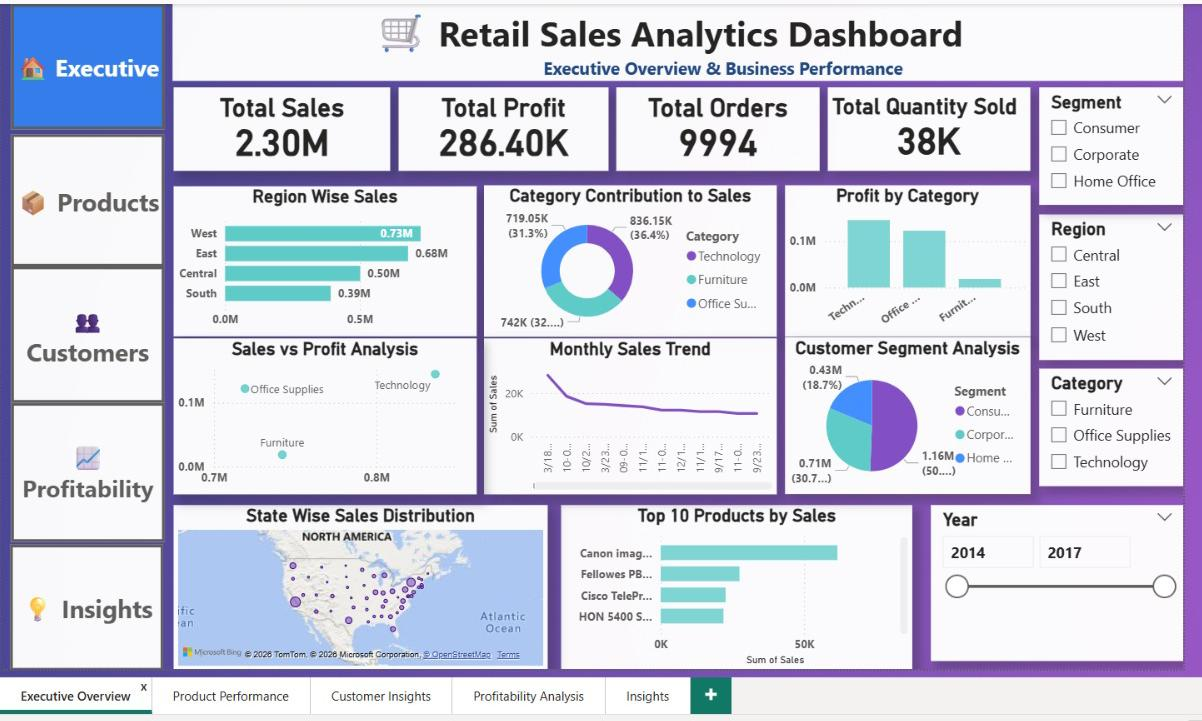

What the dashboard file says about the page in this screenshot:
{"tool":"powerbi","page":{"name":"Executive Overview","canvas":[1280,720],"ordinal":0},"visuals":[{"type":"textbox","box":[186.4,0,1093.6,83.5],"z":0},{"type":"actionButton","box":[9.7,584.3,166,136.3],"z":0,"group":"g1"},{"type":"card","title":"Total Sales","fields":{"Values":["Sum(Sample_ Superstore.Sales)"]},"box":[187.1,90.5,234.8,90.5],"z":1000},{"type":"card","title":"Total Profit","fields":{"Values":["Sum(Sample_ Superstore.Profit)"]},"box":[430.4,90.5,227.4,90.5],"z":2000},{"type":"actionButton","box":[10.7,140.5,166,143.3],"z":2000,"group":"g1"},{"type":"card","title":"Total Orders","fields":{"Values":["CountNonNull(Sample_ Superstore.Order ID)"]},"box":[666.4,90.5,220.1,90.5],"z":3000},{"type":"actionButton","box":[10.7,283.8,166,147.5],"z":3000,"group":"g1"},{"type":"card","title":"Total Quantity Sold","fields":{"Values":["Sum(Sample_ Superstore.Quantity)"]},"box":[895.1,90.5,218.9,90.5],"z":4000},{"type":"clusteredBarChart","title":"Region Wise Sales","fields":{"Category":["Sample_ Superstore.Region"],"Y":["Sum(Sample_ Superstore.Sales)"]},"box":[187.1,196.9,327.7,162.6],"z":5000},{"type":"donutChart","title":"Category Contribution to Sales","fields":{"Category":["Sample_ Superstore.Category"],"Y":["Sum(Sample_ Superstore.Sales)"]},"box":[523.4,195.7,316.7,163.9],"z":6000},{"type":"clusteredBarChart","title":"Top 10 Products by Sales","fields":{"Category":["Sample_ Superstore.Product Name"],"Y":["Sum(Sample_ Superstore.Sales)"]},"box":[606.5,541.7,380.3,178.5],"z":7000},{"type":"group","id":"g1","title":"Group 1","box":[9.7,140.5,167,580.2],"z":8000},{"type":"lineChart","title":"Monthly Sales Trend","fields":{"Category":["Sample_ Superstore.Month"],"Y":["Sum(Sample_ Superstore.Sales)"]},"box":[523.4,362,316.7,168.8],"z":9000},{"type":"clusteredColumnChart","title":"Profit by Category","fields":{"Category":["Sample_ Superstore.Category"],"Y":["Sum(Sample_ Superstore.Profit)"]},"box":[848.6,195.7,265.4,163.9],"z":10000},{"type":"pieChart","title":"Customer Segment Analysis","fields":{"Category":["Sample_ Superstore.Segment"],"Y":["Sum(Sample_ Superstore.Sales)"]},"box":[848.6,360.7,265.4,170],"z":11000},{"type":"map","title":"State Wise Sales Distribution","fields":{"Category":["Sample_ Superstore.State"],"Size":["Sum(Sample_ Superstore.Sales)"]},"box":[187.1,541.7,404.8,178.5],"z":12000},{"type":"scatterChart","title":"Sales vs Profit Analysis","fields":{"X":["Sum(Sample_ Superstore.Sales)"],"Y":["Sum(Sample_ Superstore.Profit)"],"Category":["Sample_ Superstore.Category"]},"box":[187.1,362,327.7,168.8],"z":13000},{"type":"slicer","fields":{"Values":["Sample_ Superstore.Region"]},"box":[1123.8,227.4,156.5,157.7],"z":14000},{"type":"slicer","fields":{"Values":["Sample_ Superstore.Category"]},"box":[1123.8,395,156.5,127.2],"z":15000},{"type":"slicer","fields":{"Values":["Sample_ Superstore.Segment"]},"box":[1123.8,90.5,156.5,127.2],"z":16000},{"type":"slicer","fields":{"Values":["Sample_ Superstore.Year"]},"box":[1006.4,541.7,273.9,168.8],"z":17000},{"type":"actionButton","box":[11,0,166.3,135.7],"z":17001},{"type":"actionButton","box":[11,431.7,166.3,150.4],"z":17002}]}

Visuals, with their boxes in screenshot pixels (x1, y1, x2, y2):
textbox: left=169, top=0, right=1182, bottom=77
actionButton: left=6, top=541, right=160, bottom=667
"Total Sales" card: left=170, top=84, right=388, bottom=168
"Total Profit" card: left=395, top=84, right=606, bottom=168
actionButton: left=7, top=130, right=161, bottom=263
"Total Orders" card: left=614, top=84, right=818, bottom=168
actionButton: left=7, top=263, right=161, bottom=399
"Total Quantity Sold" card: left=826, top=84, right=1029, bottom=168
"Region Wise Sales" clusteredBarChart: left=170, top=182, right=474, bottom=333
"Category Contribution to Sales" donutChart: left=482, top=181, right=775, bottom=333
"Top 10 Products by Sales" clusteredBarChart: left=559, top=502, right=911, bottom=667
"Group 1" group: left=6, top=130, right=161, bottom=667
"Monthly Sales Trend" lineChart: left=482, top=335, right=775, bottom=492
"Profit by Category" clusteredColumnChart: left=783, top=181, right=1029, bottom=333
"Customer Segment Analysis" pieChart: left=783, top=334, right=1029, bottom=491
"State Wise Sales Distribution" map: left=170, top=502, right=545, bottom=667
"Sales vs Profit Analysis" scatterChart: left=170, top=335, right=474, bottom=492
slicer - Sample_ Superstore.Region: left=1038, top=211, right=1183, bottom=357
slicer - Sample_ Superstore.Category: left=1038, top=366, right=1183, bottom=484
slicer - Sample_ Superstore.Segment: left=1038, top=84, right=1183, bottom=202
slicer - Sample_ Superstore.Year: left=929, top=502, right=1183, bottom=658
actionButton: left=7, top=0, right=161, bottom=126
actionButton: left=7, top=400, right=161, bottom=539
